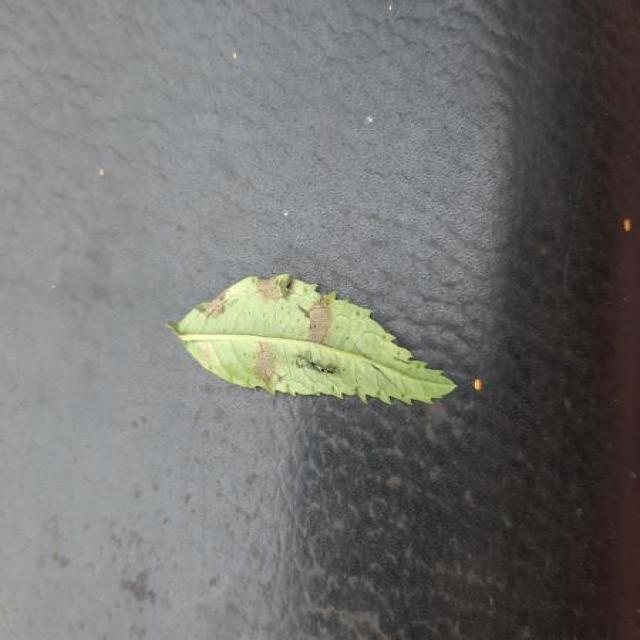leaf spot: (168, 274, 455, 403)
marigold: (168, 274, 455, 403)
